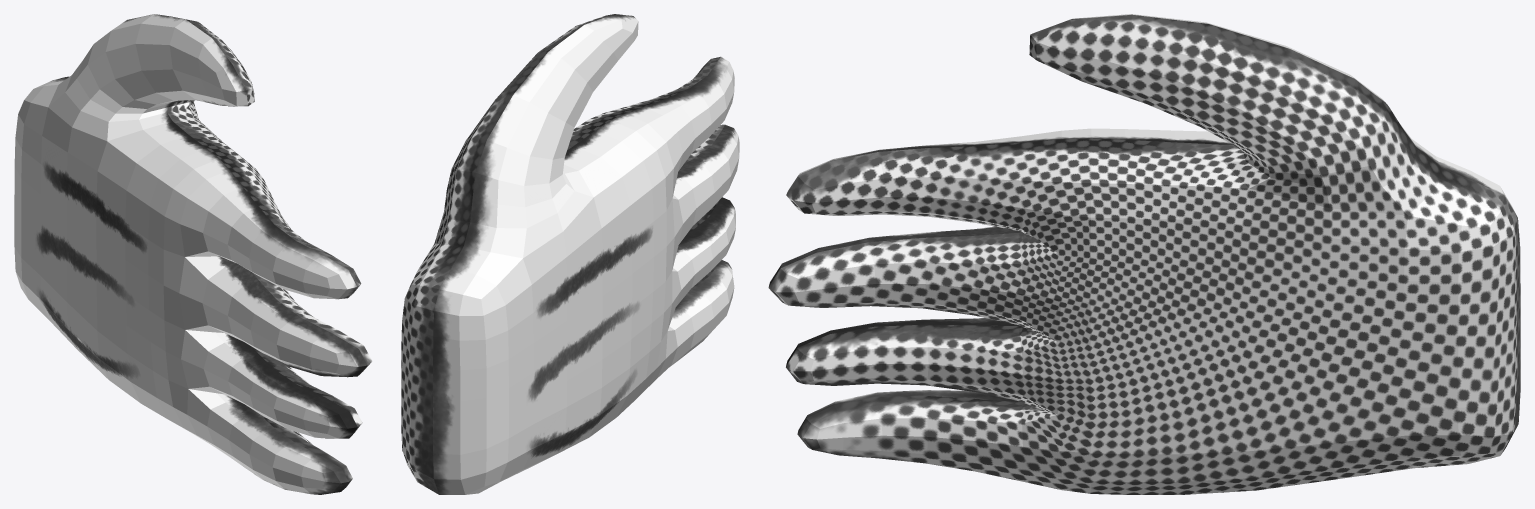
File: mao dir 1.fbx
3 renders of one model, left to right at view 1: azimuth 30°, elevation 25°; view 2: azimuth 150°, elevation 25°; view 3: azimuth 270°, elevation 25°, orthographic. The views are drawn at different scales.
Visible parts, largest first — view 1: Cube.009; view 2: Cube.009; view 3: Cube.009.
Boxes of the visible parts, <box> form: Cube.009: <box>14,14,372,494</box>; Cube.009: <box>401,14,739,494</box>; Cube.009: <box>768,14,1520,494</box>.
Bounding box in the file's own units: 93.72 × 303 × 433.
1 material, 1 textured.
